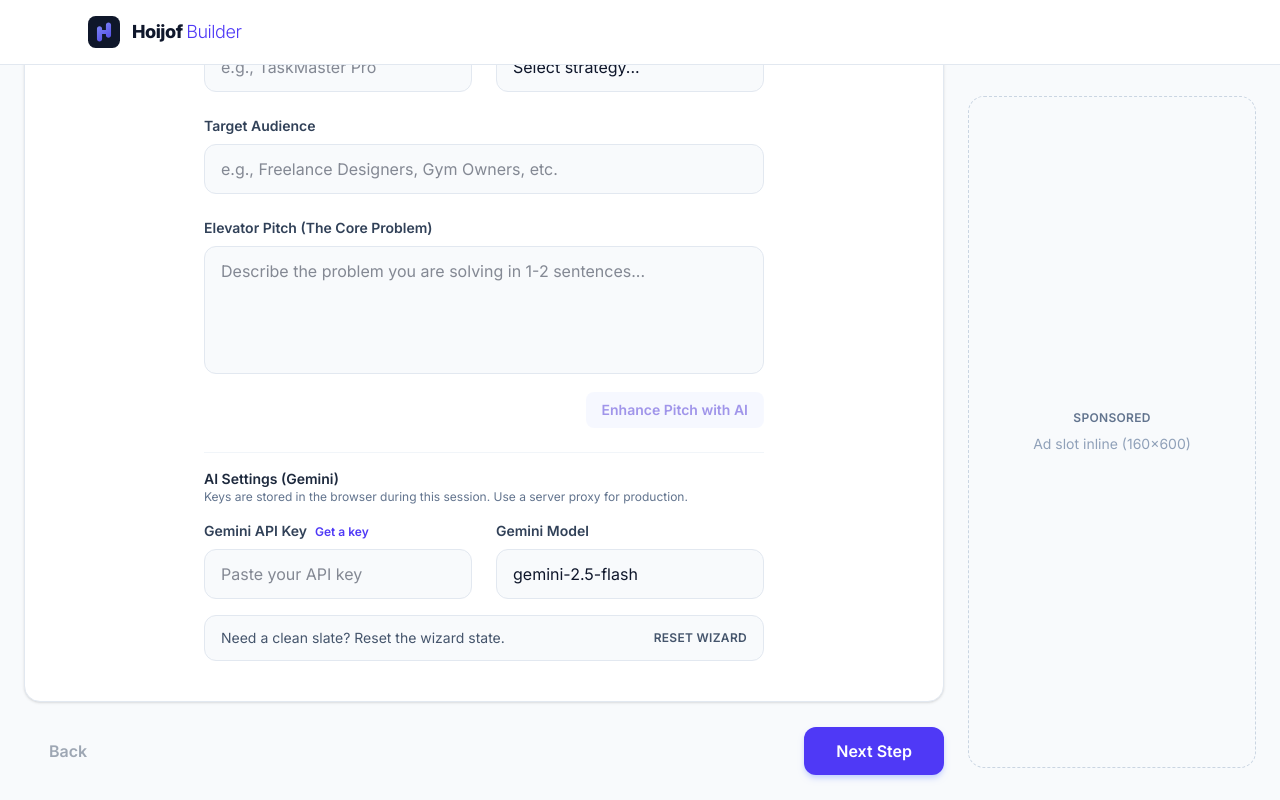
Test case: Phase 2 Gemini actions › updates the pitch with Gemini response
(page scrolled)
Type "test-key" into the password field labelled "Gemini API Key Get a key" at (338, 574), box left=204, top=549, right=472, bottom=599
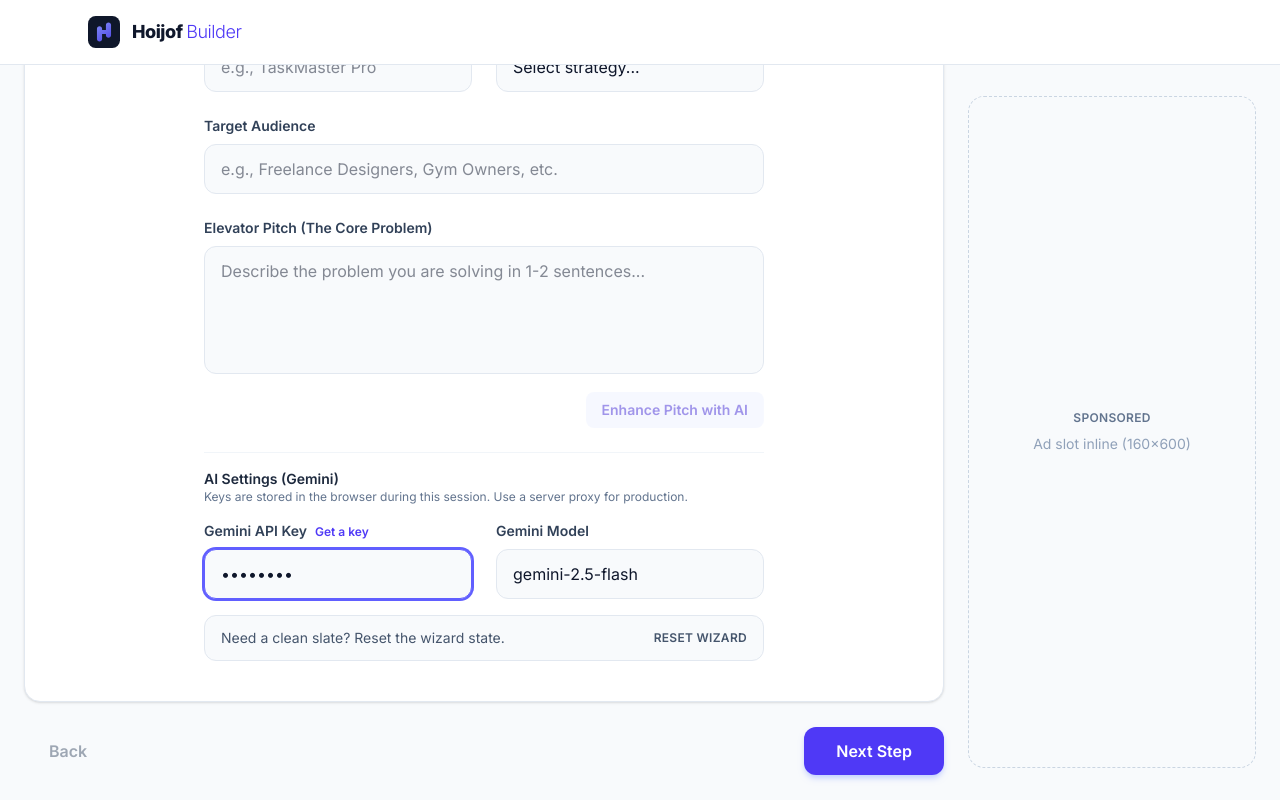
Type "Original pitch" into the text box labelled "Elevator Pitch (The Core Problem)" at (484, 310), box left=204, top=246, right=764, bottom=374
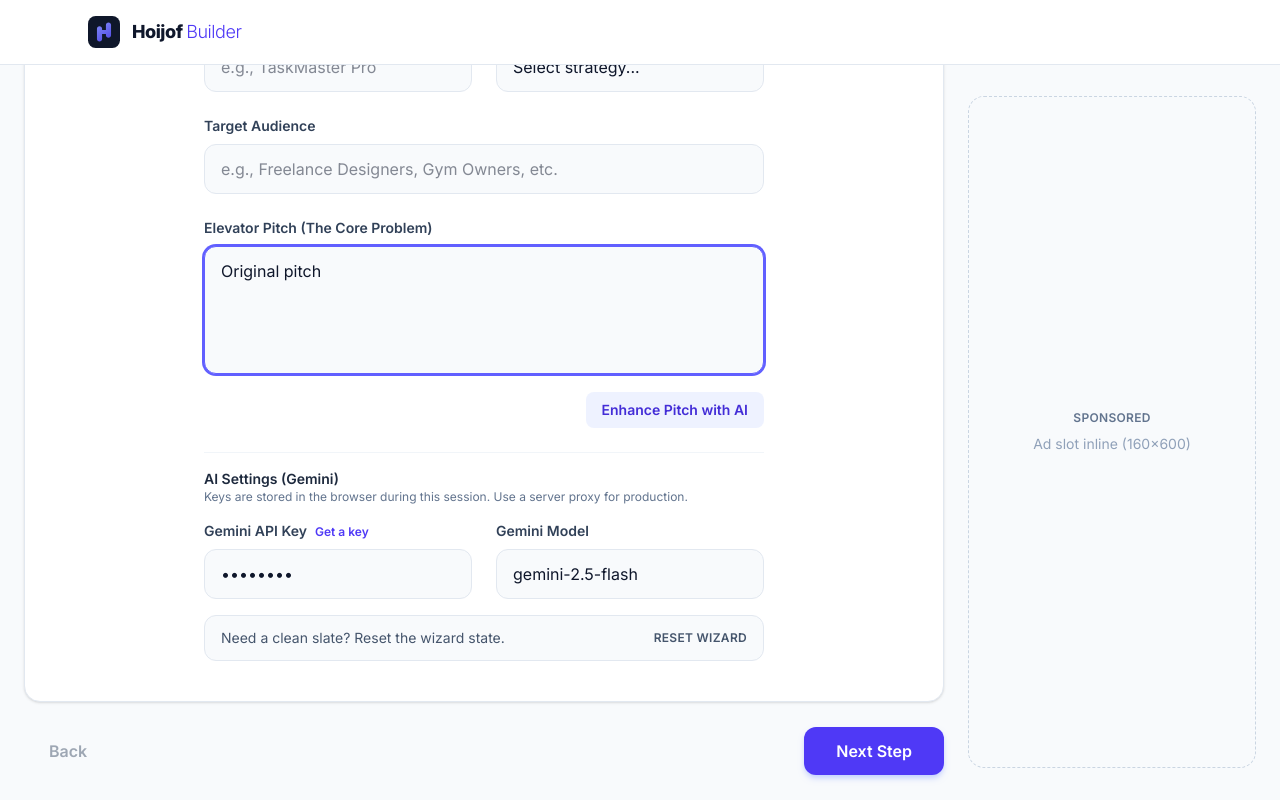
Click the button "Enhance Pitch with AI" at (675, 410), box left=586, top=392, right=764, bottom=428
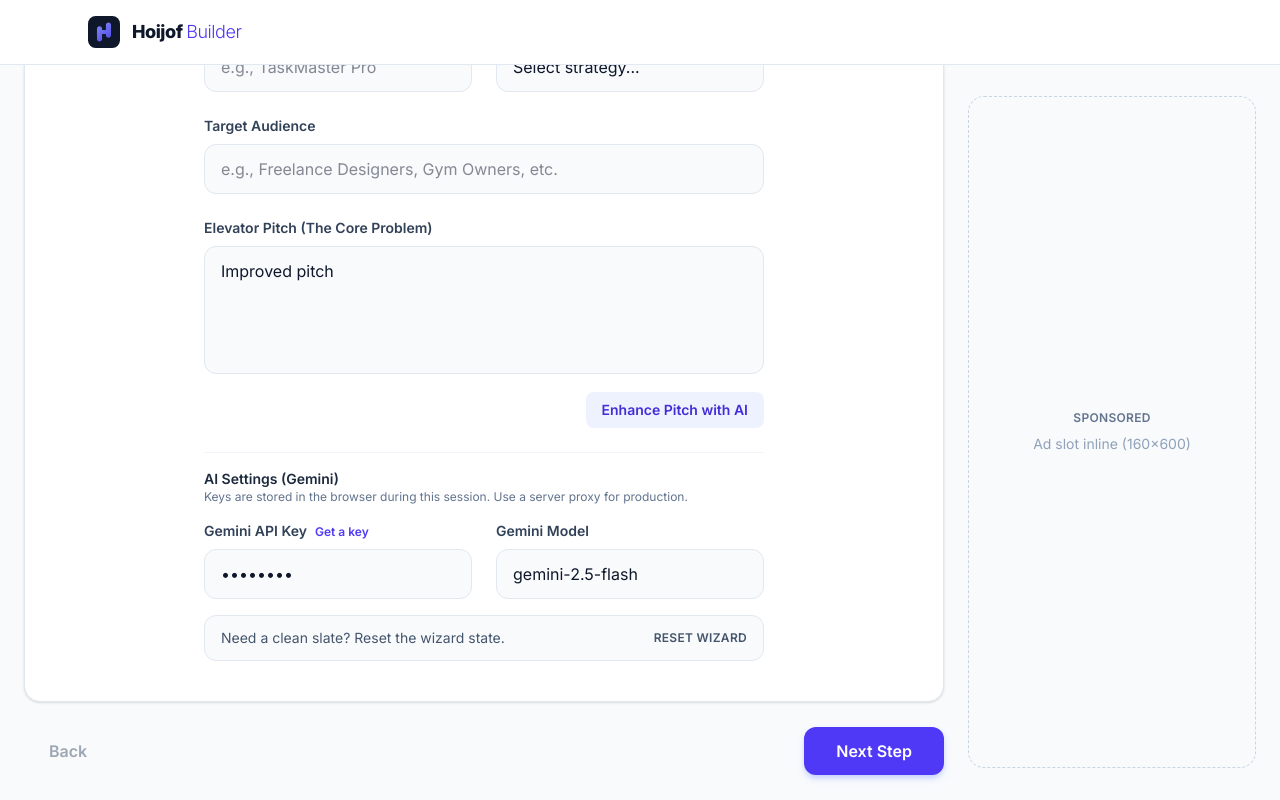
Check: the text box labelled "Elevator Pitch (The Core Problem)" holds "Improved pitch", box left=204, top=246, right=764, bottom=374
